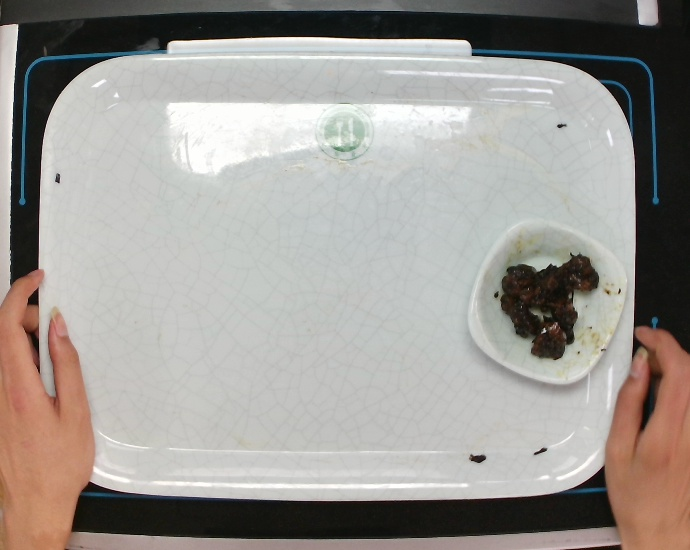JYsf-Si_Fang_Die: (455, 206, 639, 392)
